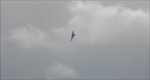maybay_muctieu: (69, 29, 77, 42)
